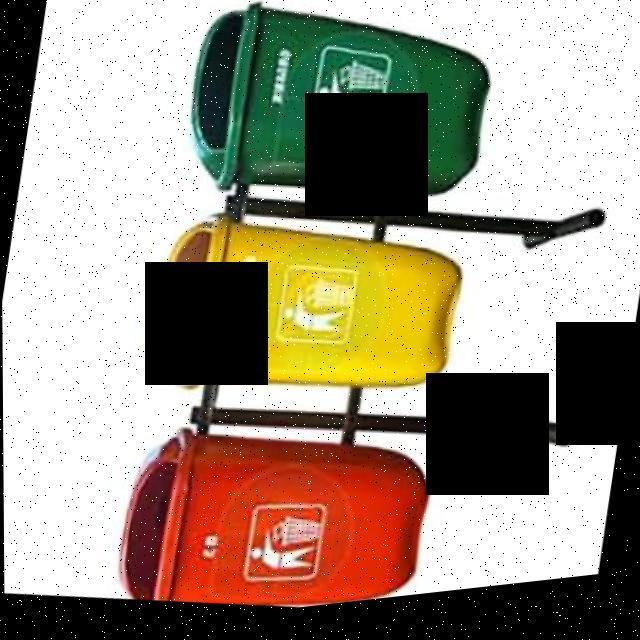bin: (127, 171, 487, 448), (165, 0, 525, 253), (92, 389, 446, 632)
